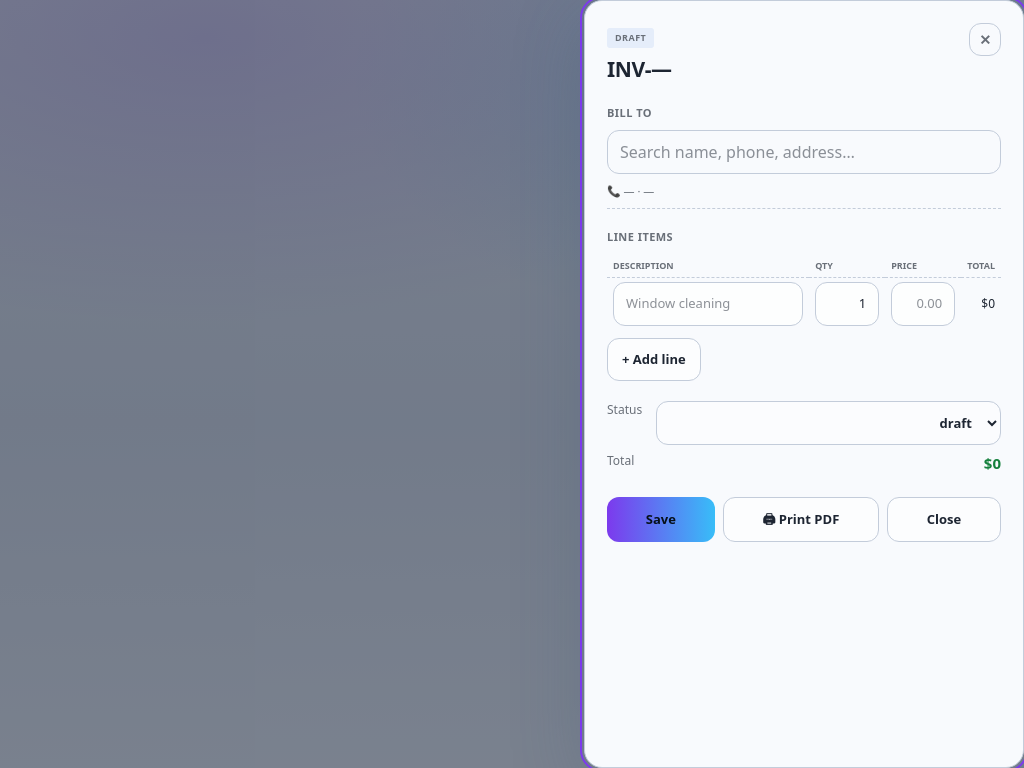
Test case: InvoiceDrawer create mode — Bill-to starts empty › saving without picking a customer surfaces an error and does not save
Click the button "Save".
click(661, 519)  # box [607,496,715,542]
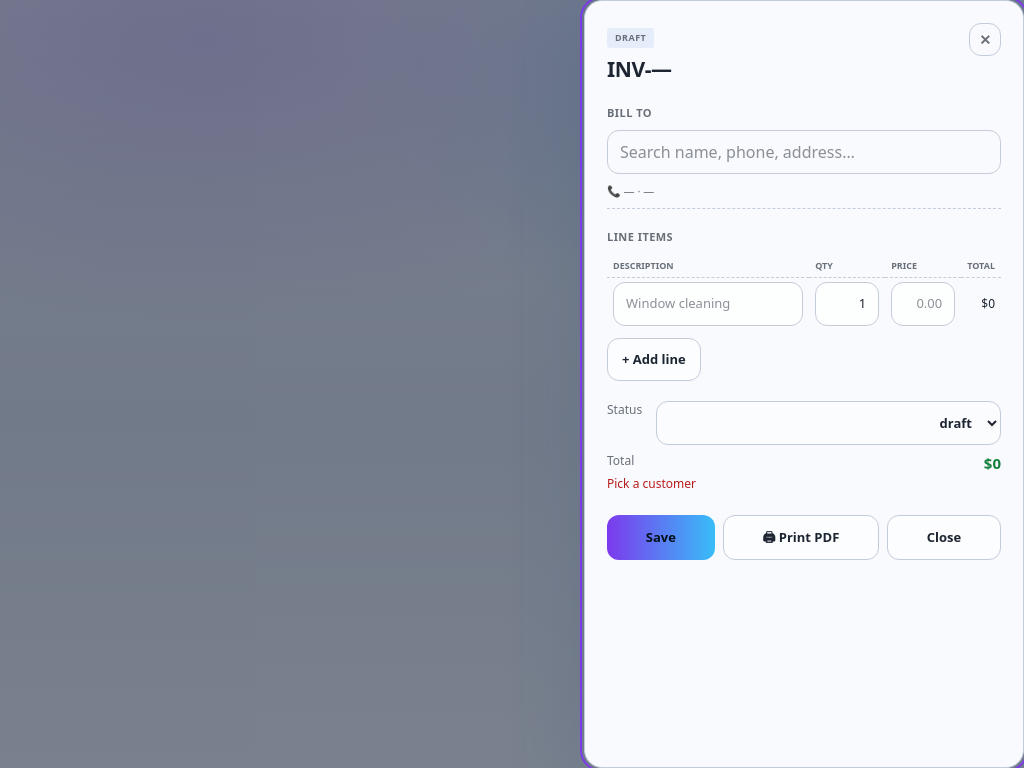
Check: the text "Pick a customer" is shown, box [607,474,696,492]
